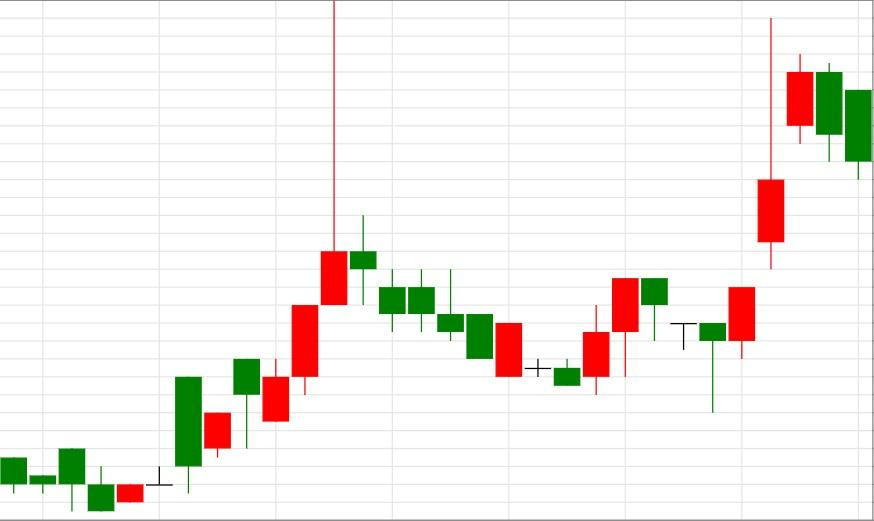hammer_rise: (612, 277, 727, 414)
hanging_man_fall: (87, 0, 348, 512)
